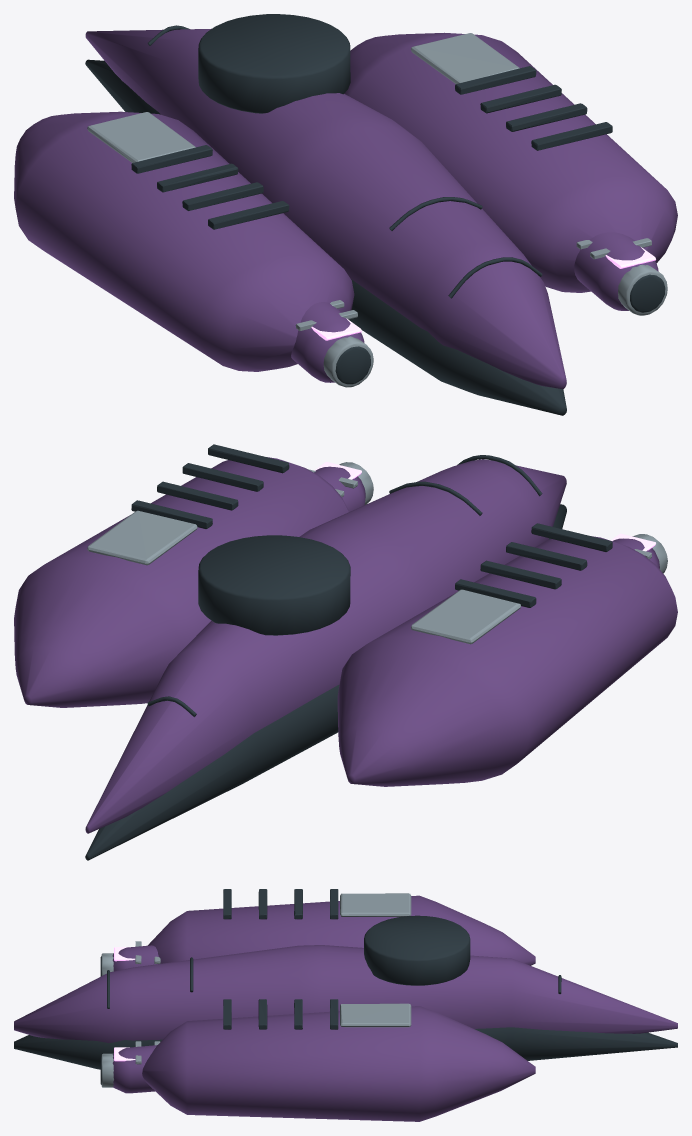
File: tactical-3.glb
The picture shows the model from 3 angles, top to bottom: view 1: azimuth 30°, elevation 25°; view 2: azimuth 150°, elevation 25°; view 3: azimuth 270°, elevation 25°; orthographic projection. The views are drawn at different scales.
Parts seen in each view (by area): view 1: SM_Hull, SM_Wing_Left, SM_Wing_Right, SM_Engine_Right, SM_Engine_Left; view 2: SM_Hull, SM_Wing_Left, SM_Wing_Right, SM_Engine_Right, SM_Engine_Left; view 3: SM_Hull, SM_Wing_Right, SM_Wing_Left, SM_Engine_Right, SM_Engine_Left.
Part boxes in pixels (x1,y1,x2,y2): SM_Hull: (85,14,566,415); SM_Wing_Left: (14,111,354,371); SM_Wing_Right: (344,32,677,292); SM_Engine_Right: (574,232,667,315); SM_Engine_Left: (291,300,373,387); SM_Hull: (85,455,566,860); SM_Wing_Left: (337,523,677,786); SM_Wing_Right: (14,444,348,707); SM_Engine_Right: (308,462,373,511); SM_Engine_Left: (611,533,667,573); SM_Hull: (14,915,677,1069); SM_Wing_Right: (142,999,535,1121); SM_Wing_Left: (148,889,535,965); SM_Engine_Right: (100,1041,160,1093); SM_Engine_Left: (100,941,160,976).
Bounding box in the file's own units: 3.5 × 1.21 × 5.6.
